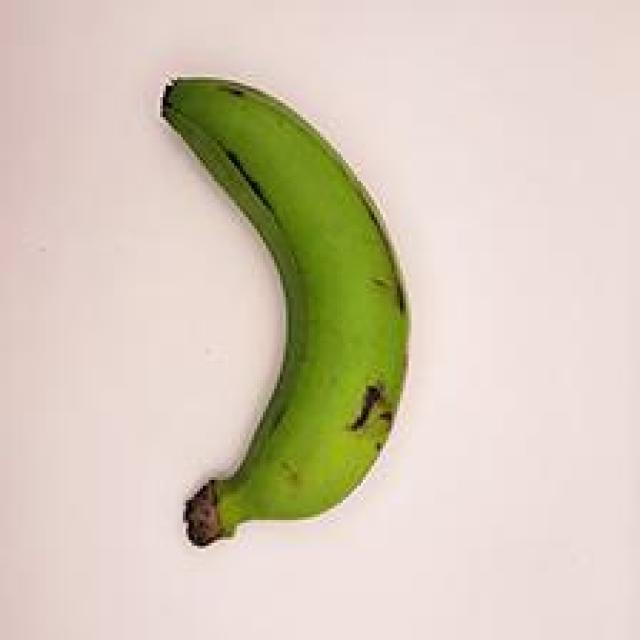Raw: (121, 57, 435, 557)
